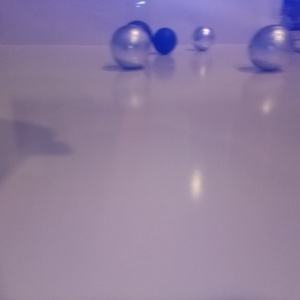alive_ball: (60, 9, 100, 52), (125, 16, 156, 50)
dead_ball: (1, 55, 70, 134)
